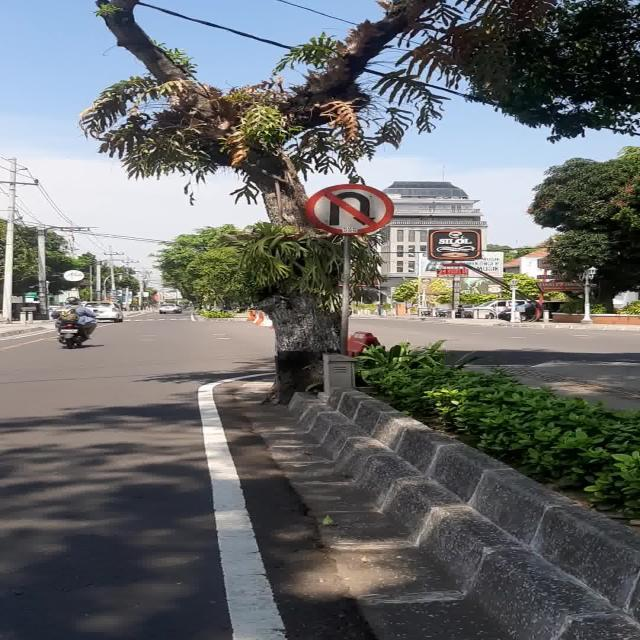Dilarang Putar Balik: (304, 183, 394, 234)
